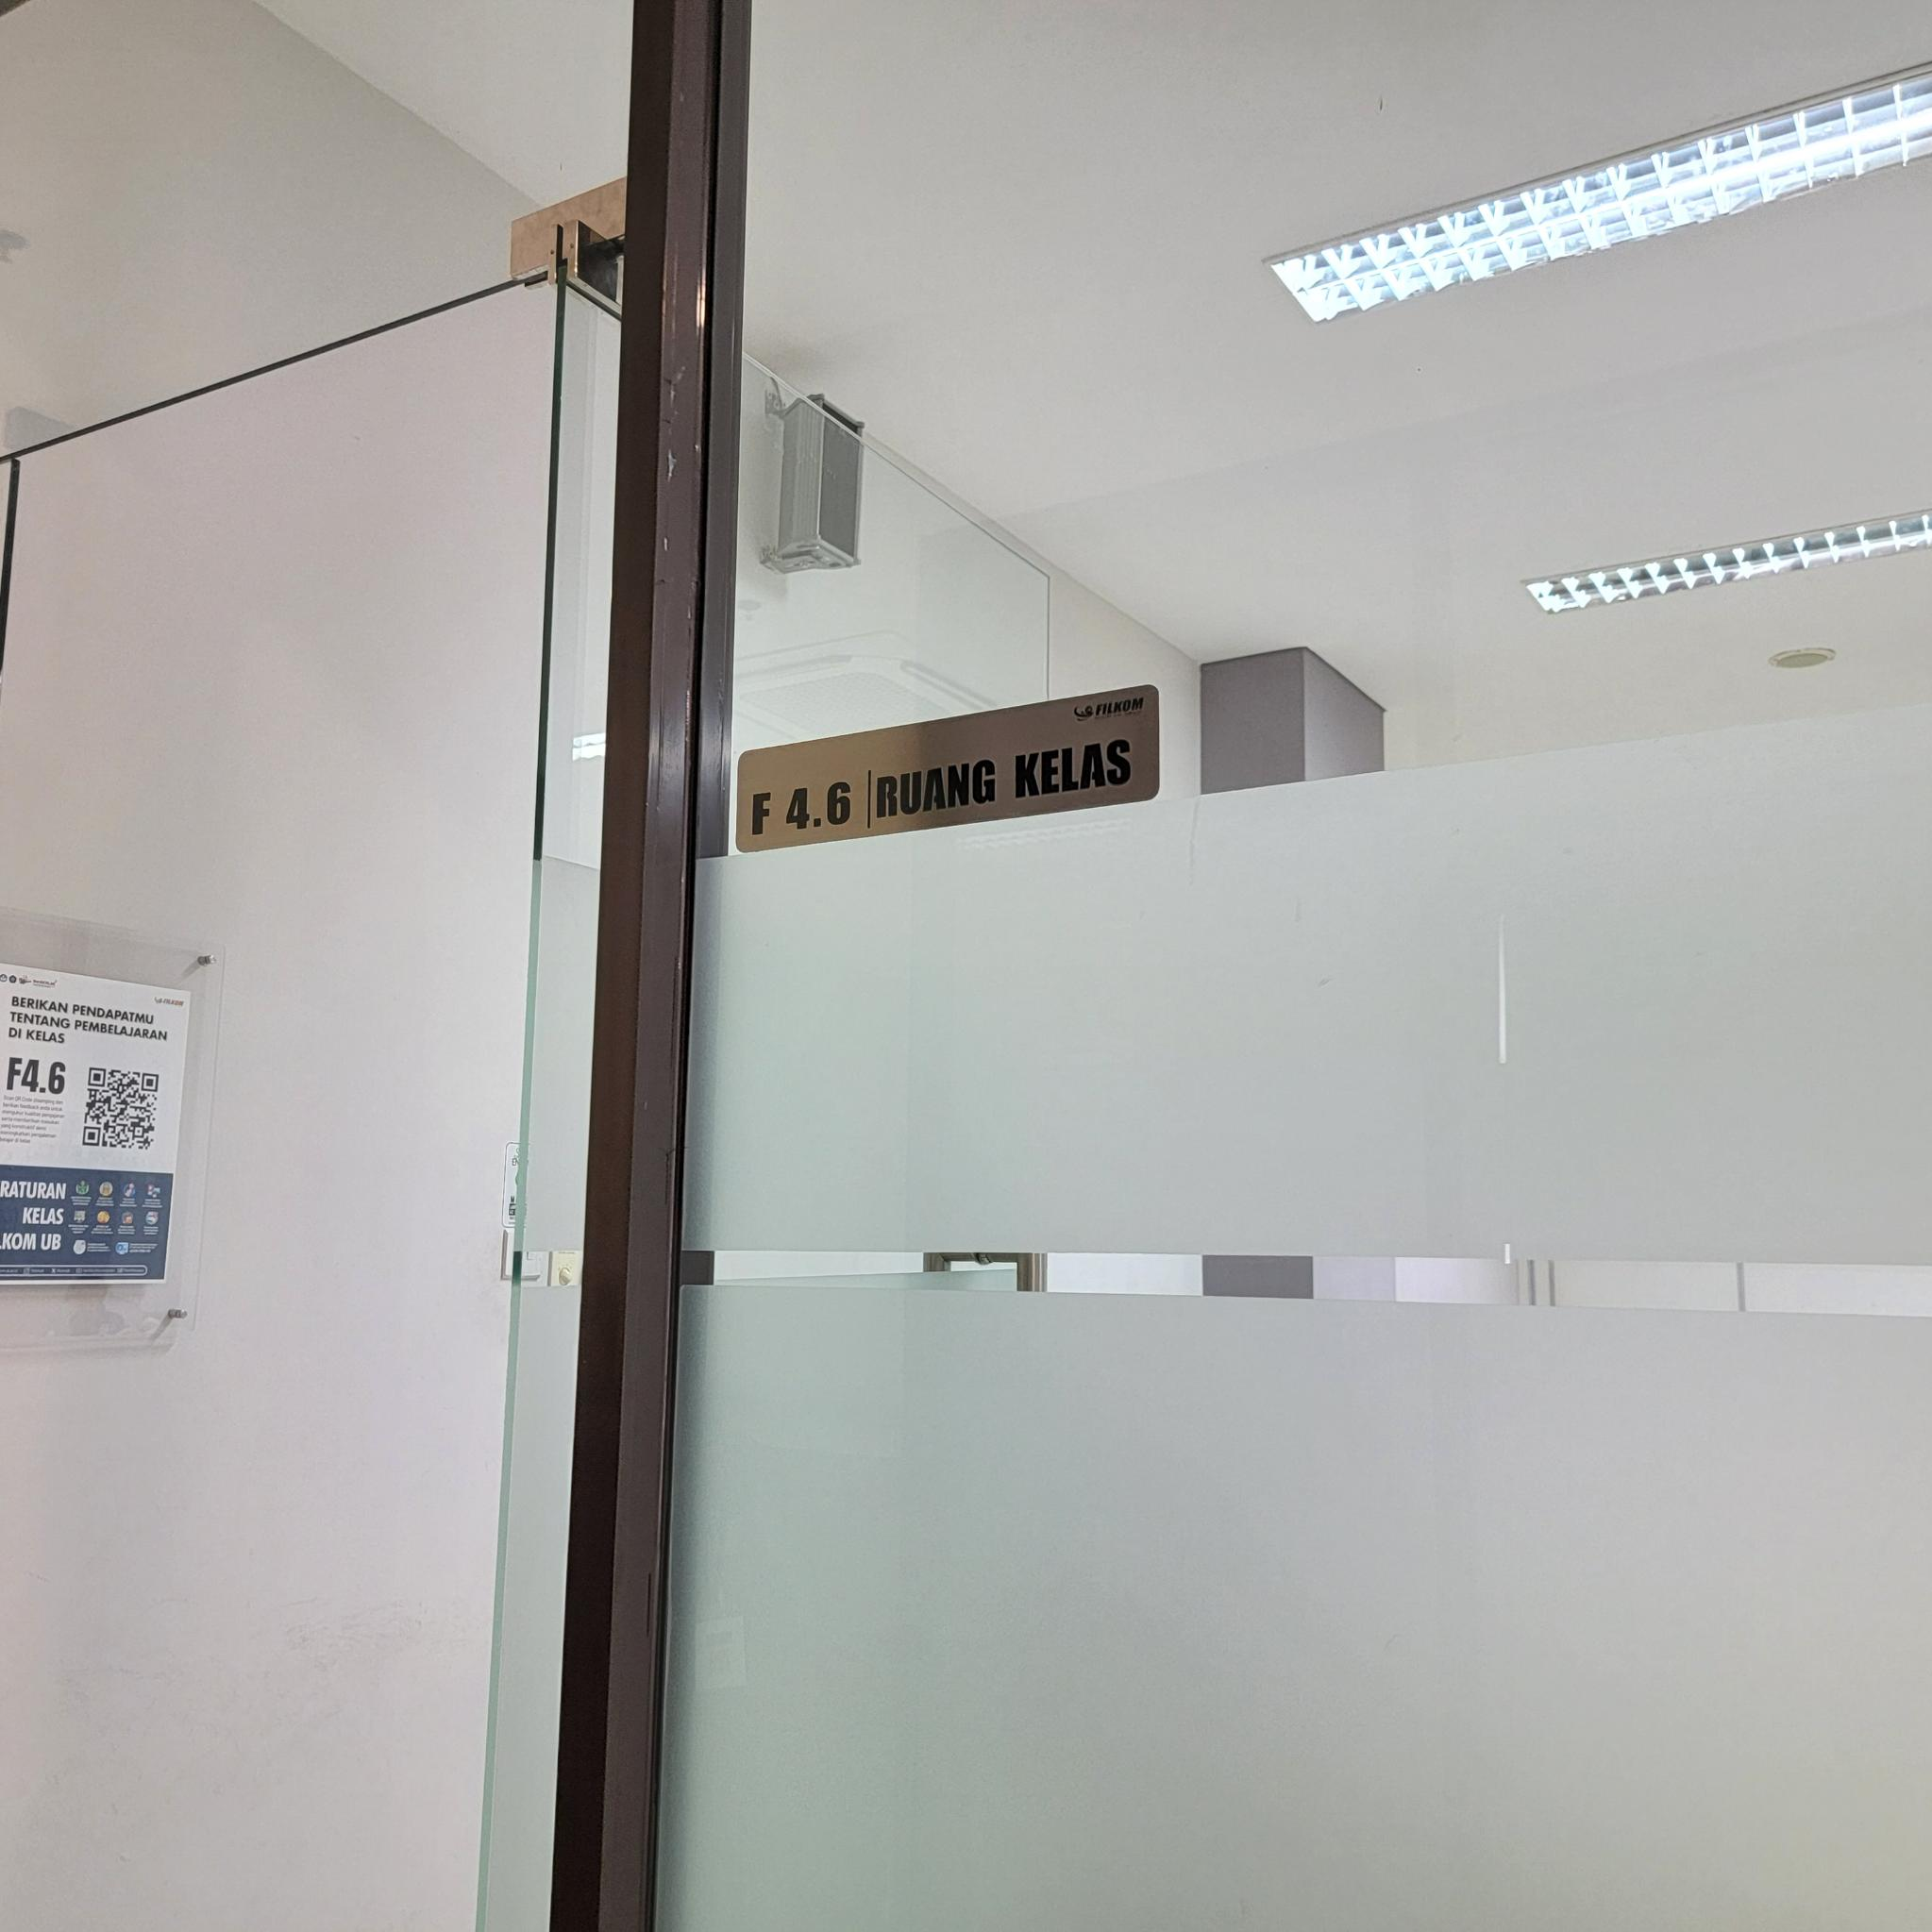plate: (736, 681, 1161, 853)
